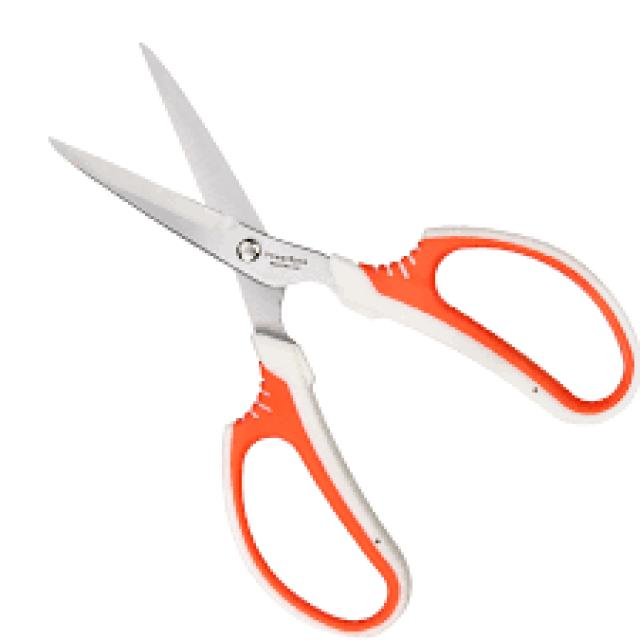Dry: (42, 39, 640, 637)
